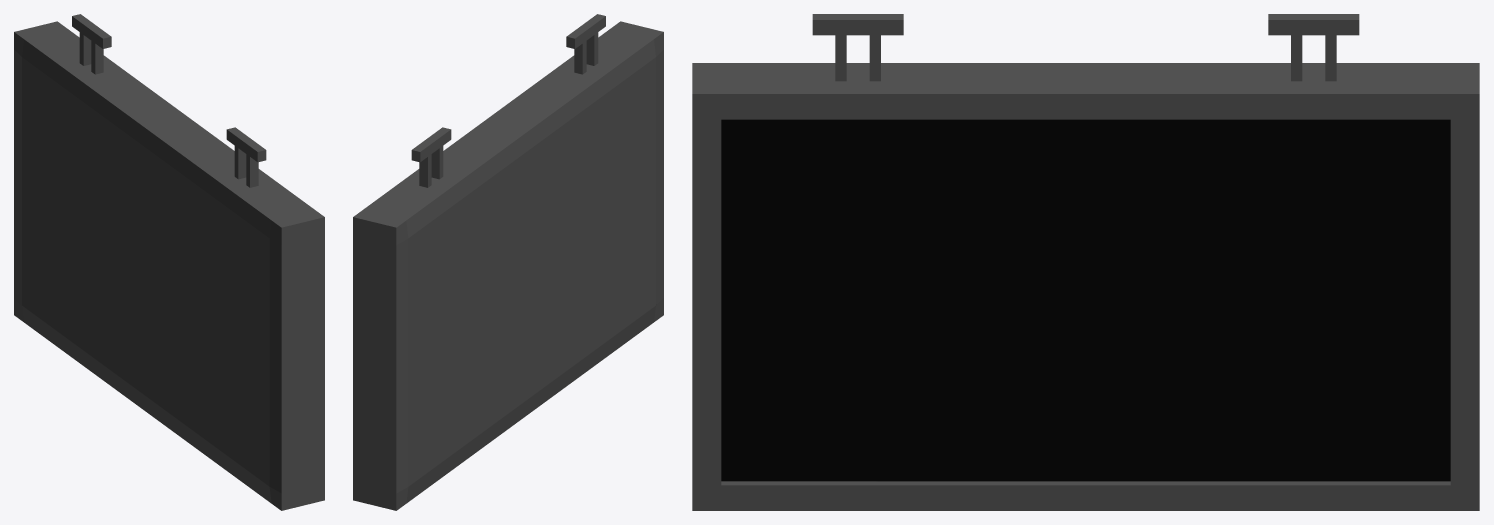
Rendered from monitor.fbx.
The picture shows the model from 3 angles, left to right: view 1: azimuth 30°, elevation 25°; view 2: azimuth 150°, elevation 25°; view 3: azimuth 270°, elevation 25°; orthographic projection. The views are drawn at different scales.
Visible parts, largest first — view 1: Cube; view 2: Cube; view 3: Cube.
Boxes of the visible parts, x1=… form: Cube: x1=14, y1=14, x2=324, y2=510; Cube: x1=353, y1=14, x2=663, y2=510; Cube: x1=692, y1=14, x2=1479, y2=510.
Bounding box in the file's own units: 94.43 × 645 × 962.
